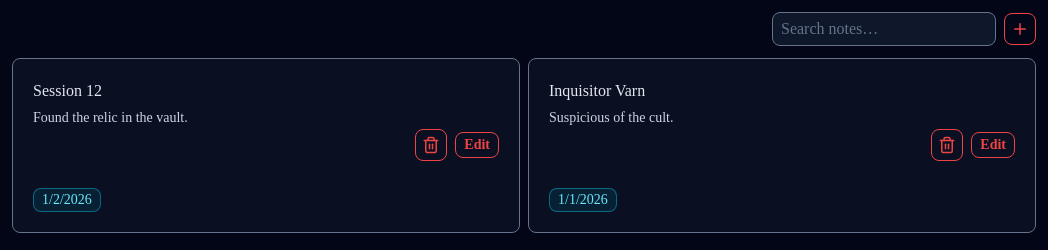
Test: NotesTab search › filters by body text match
The image size is (1048, 250).
Type "relic" into the search field with placeholder "Search notes…".
click(884, 29); type("relic")  # box [772, 12, 996, 46]
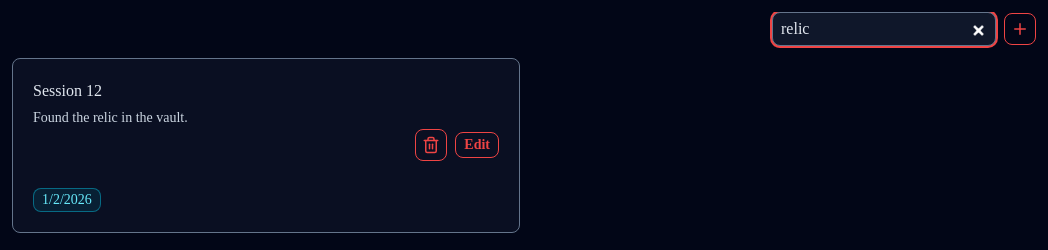
Expected: the text "Inquisitor Varn" is gone
